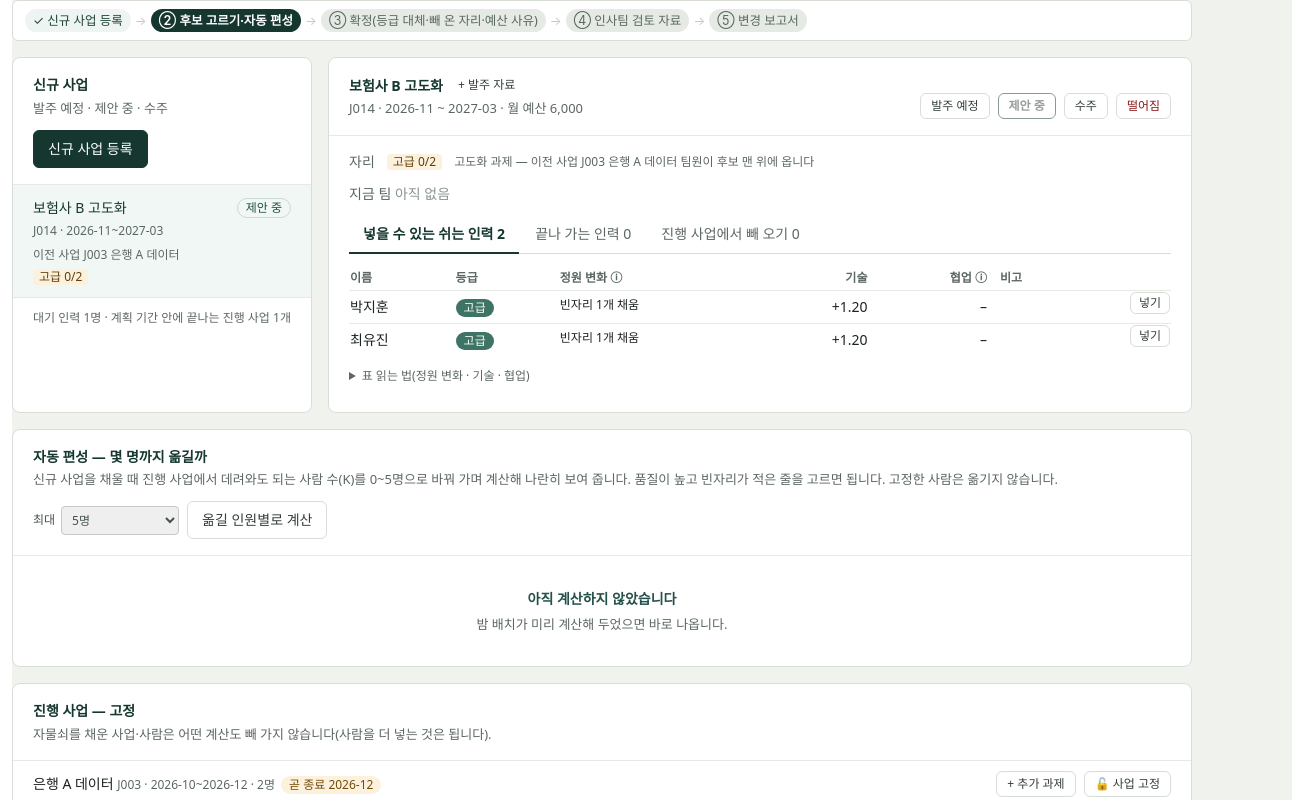
Test: NewProjectsScreen › 고른 사람의 미리 계산이 실패하면 이전 결과를 지금 선택의 것처럼 보이지 않고 확정을 막는다(Codex 리뷰 2026-10-20)
Click the button with aria-label "박지훈 넣기": (1150, 302) [1130,292,1170,314]
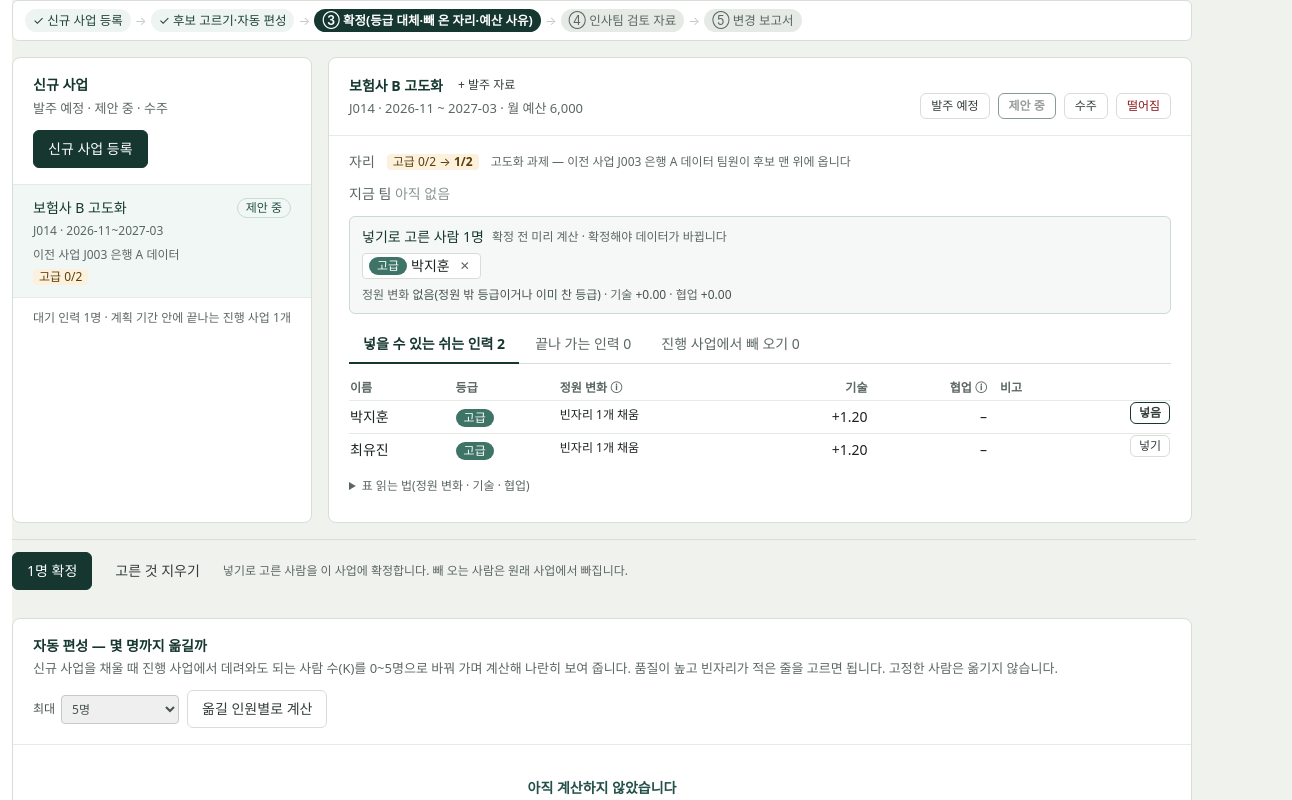
Expected: the element titled "지금 0/2 → 고른 사람 포함 1/2" is shown, [387,154,479,170]
Click the button with aria-label "최유진 넣기": (1150, 446) [1130,434,1170,456]
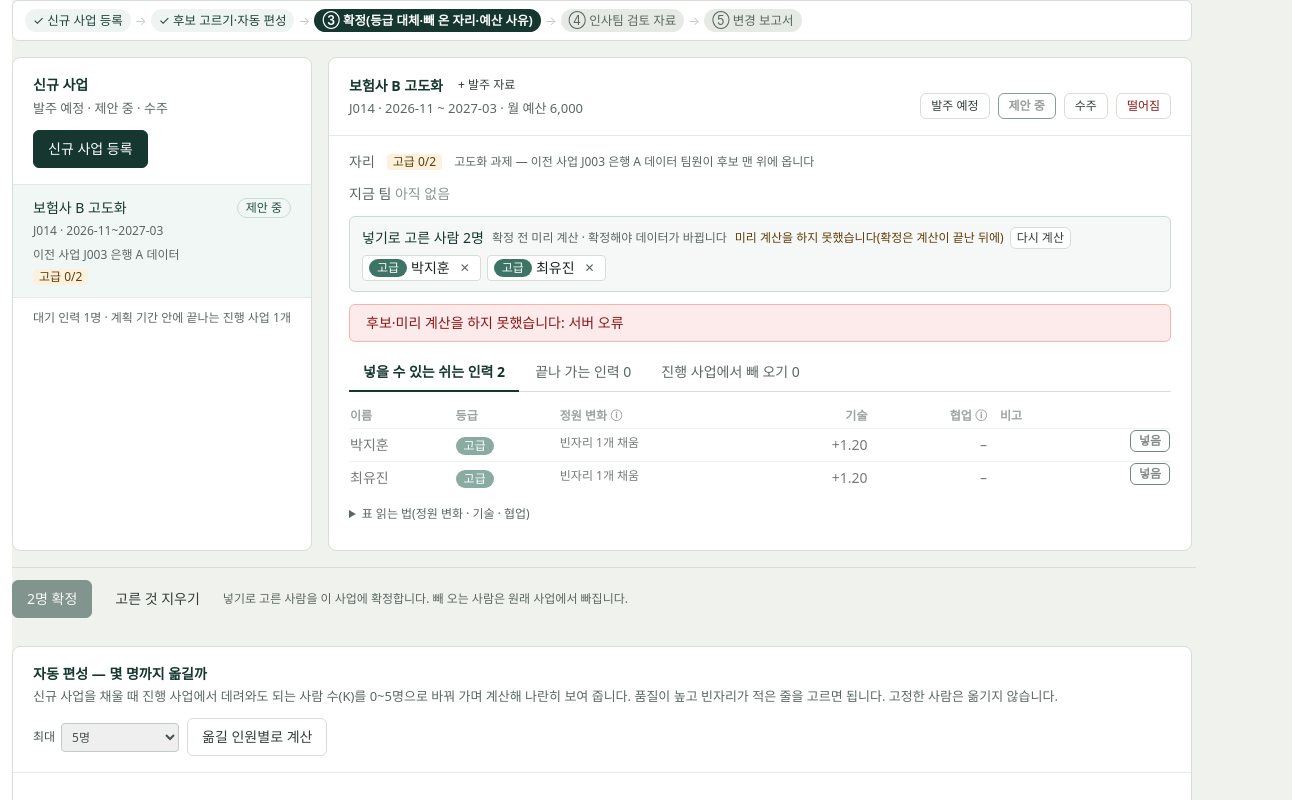
Expected: the text "후보·미리 계산을 하지 못했습니다: 서버 오류" is shown, [349,304,1171,342]
Expected: the button "2명 확정" is disabled, [12,580,92,618]
Click the button "다시 계산": (1040, 238) [1010,226,1071,248]
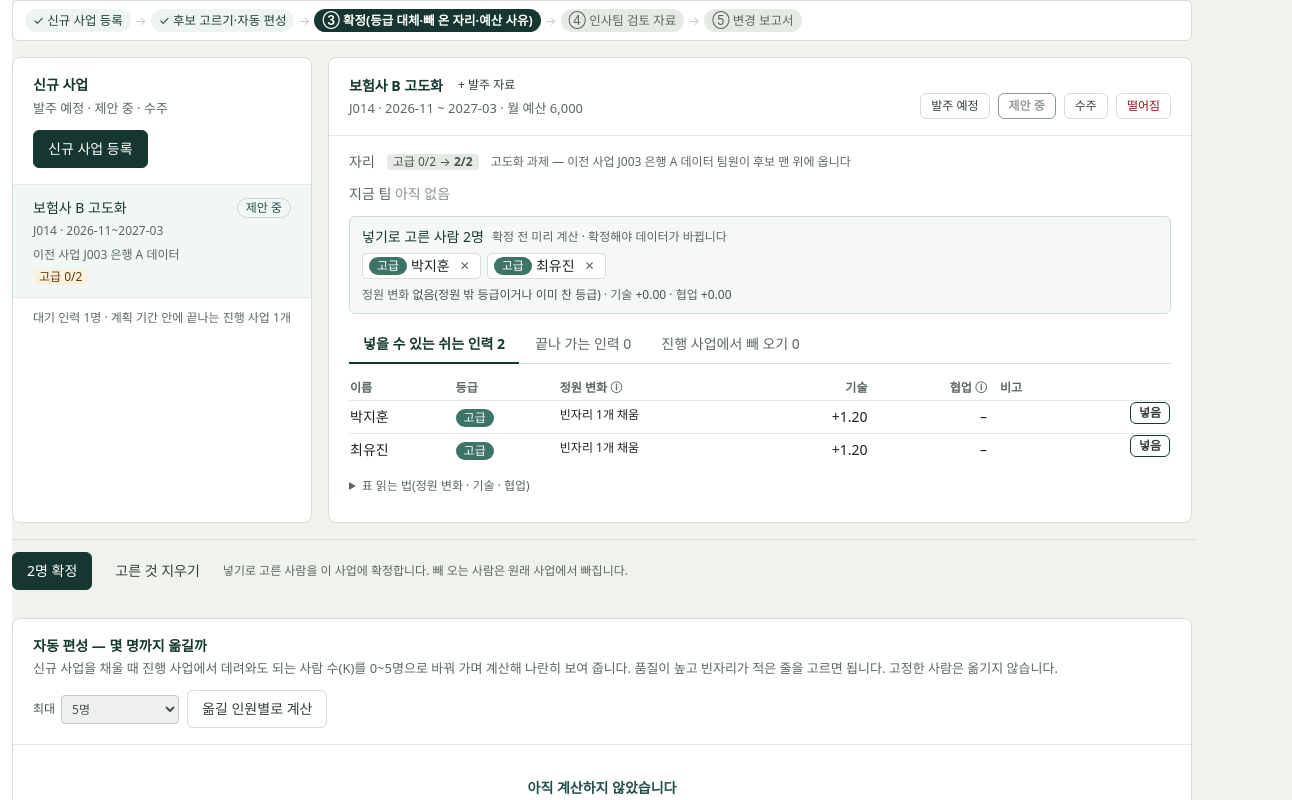
Expected: the element titled "지금 0/2 → 고른 사람 포함 2/2" is shown, [387,154,479,170]
Expected: the button "2명 확정" is enabled, [12,552,92,590]
